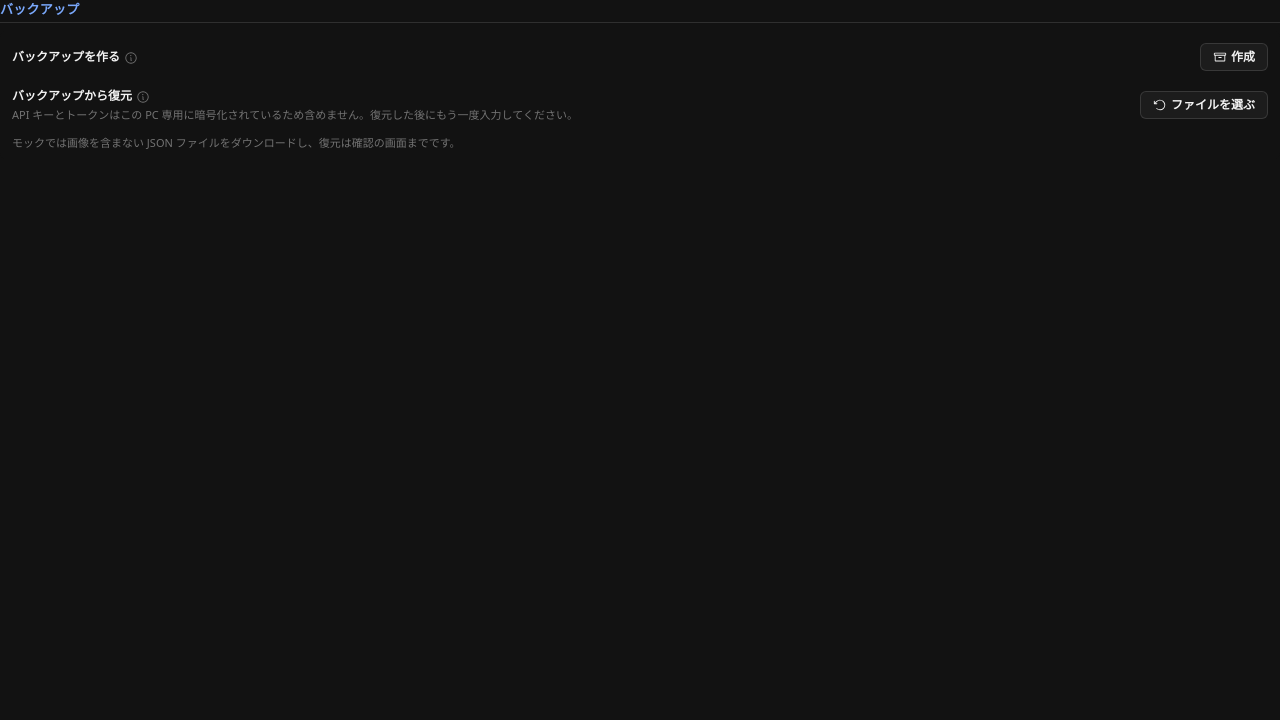
Test: backup section › asks before replacing the data, and drops the backup on cancel
Click the button with test id "backup-restore".
click(1204, 105)  # box [1140,91,1268,119]
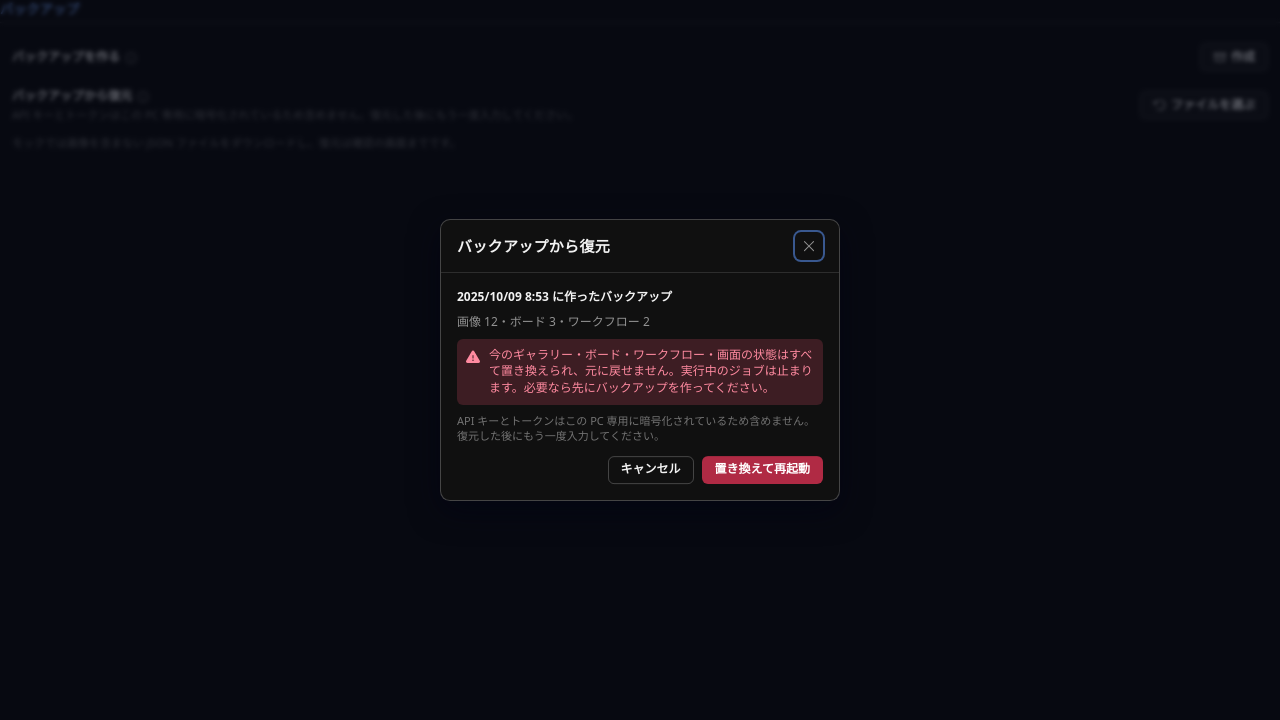
Expected: the element with test id "restore-confirm" shows "12", [457,313,650,330]
Click the button with test id "restore-confirm-cancel".
click(651, 470)  # box [608,456,694,484]
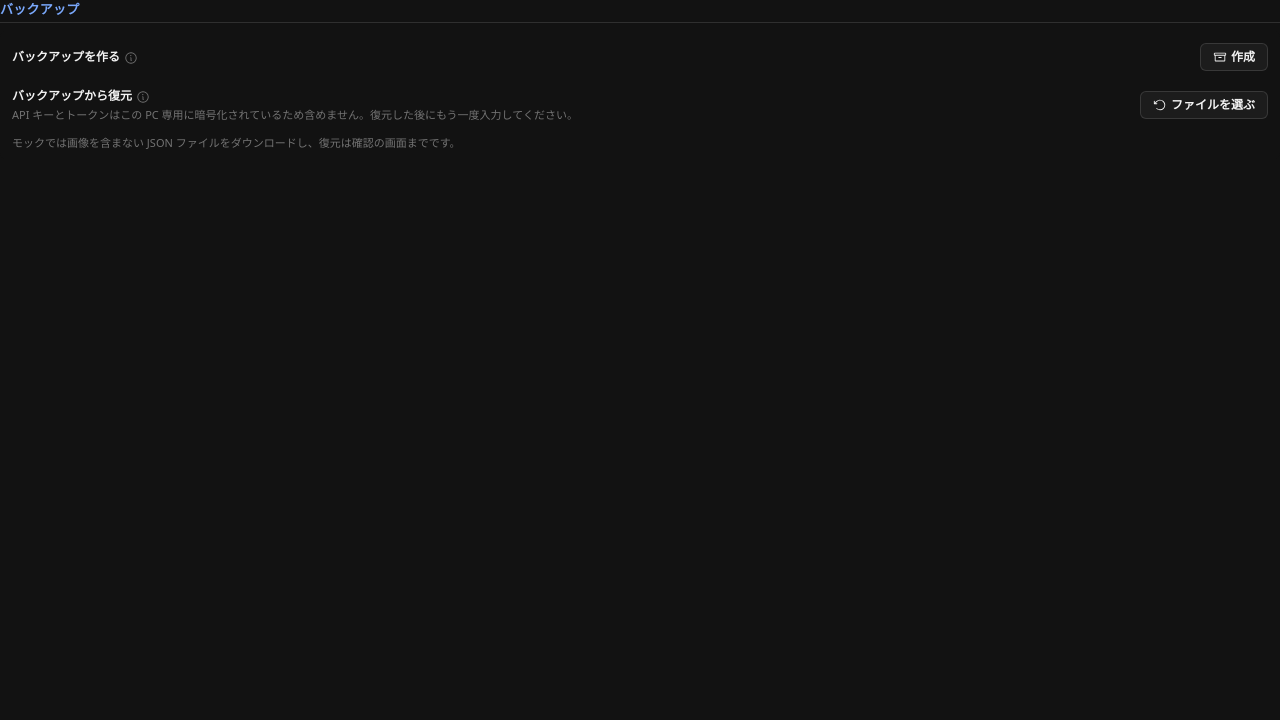
Expected: the element with test id "restore-confirm" is gone
